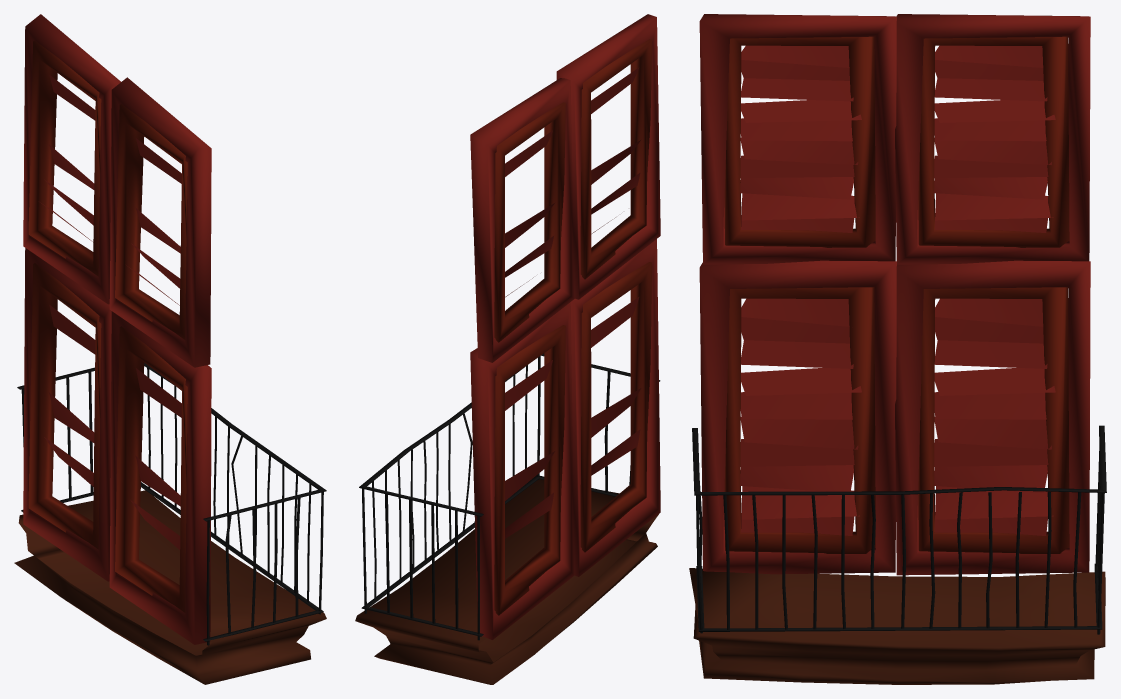
The model's file is Balcony.fbx.
The picture shows the model from 3 angles, left to right: view 1: azimuth 30°, elevation 25°; view 2: azimuth 150°, elevation 25°; view 3: azimuth 270°, elevation 25°; orthographic projection. The views are drawn at different scales.
Visible parts, largest first — view 1: Balcony_Mini.001, Shutter.008, Shutter.010, Shutter.009, Shutter.011; view 2: Balcony_Mini.001, Shutter.009, Shutter.011, Shutter.008, Shutter.010; view 3: Shutter.008, Shutter.009, Balcony_Mini.001, Shutter.010, Shutter.011.
Boxes of the visible parts, box(x1,y1,x2,y2) form: Balcony_Mini.001: box(14, 363, 326, 684); Shutter.008: box(109, 311, 211, 644); Shutter.010: box(109, 77, 211, 367); Shutter.009: box(23, 248, 111, 581); Shutter.011: box(23, 14, 120, 304); Balcony_Mini.001: box(355, 353, 660, 684); Shutter.009: box(470, 302, 574, 639); Shutter.011: box(470, 78, 574, 362); Shutter.008: box(570, 239, 660, 576); Shutter.010: box(556, 14, 660, 299); Shutter.008: box(699, 260, 896, 574); Shutter.009: box(895, 260, 1090, 575); Balcony_Mini.001: box(689, 425, 1106, 684); Shutter.010: box(699, 14, 896, 264); Shutter.011: box(895, 14, 1090, 264).
Size of the model in its own units: 0.7976 by 1.91 by 3.12.
